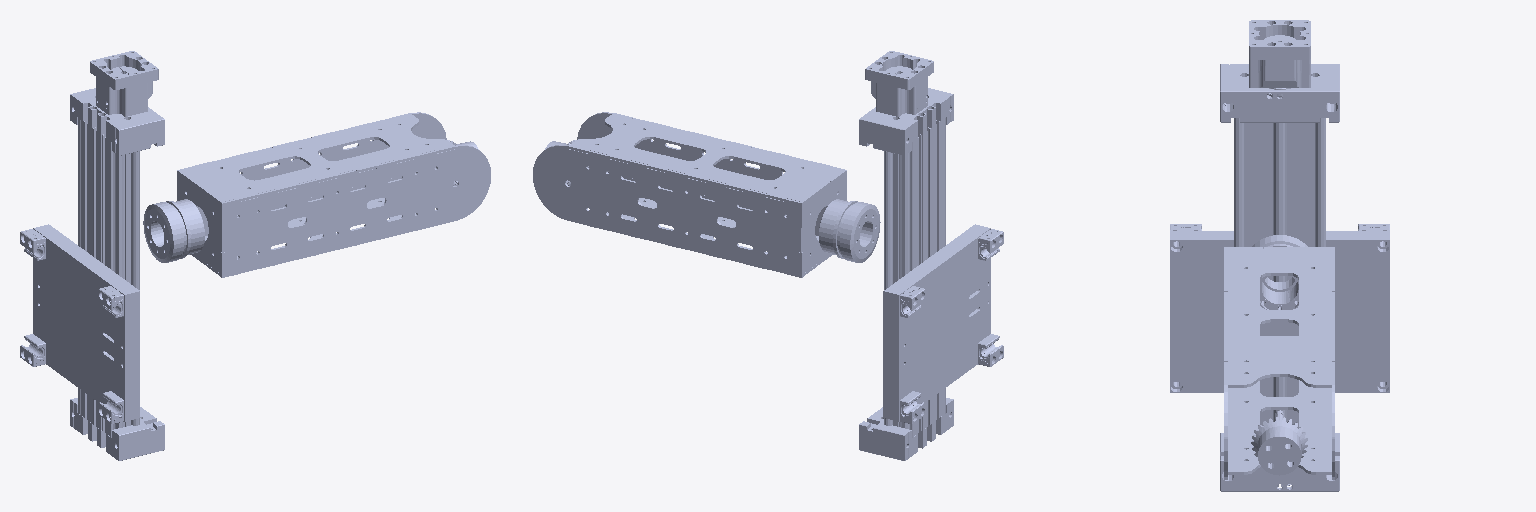
URDF robot description (gantry):
<?xml version="1.0" encoding="utf-8" ?>
<!-- This URDF was automatically created by SolidWorks to URDF Exporter! Originally created by [author] ([email redacted]) 
     Commit Version: 1.6.0-4-g7f85cfe  Build Version: 1.6.7995.38578
     For more information, please see http://wiki.ros.org/sw_urdf_exporter -->
<robot name="gantry">
    <link name="world" />
    <joint name="base_joint" type="fixed">
        <parent link="world" />
        <child link="base_link" />
        <origin rpy="0 0 0" xyz="0.0 0.0 0.17" />
    </joint>
    <link name="base_link">
        <inertial>
            <origin xyz="0.273397746062969 0.0196335701823842 0.290424975718704" rpy="0 0 0" />
            <mass value="0.999102566758599" />
            <inertia ixx="0.000487064031842296" ixy="6.79087549974893E-07" ixz="1.23528453577318E-06" iyy="0.0114768570045371" iyz="-2.04757967514068E-08" izz="0.0112945243793031" />
        </inertial>
        <visual>
            <origin xyz="0 0 0" rpy="0 0 0" />
            <geometry>
                <mesh filename="package://gantry/meshes/base_link.STL" />
            </geometry>
            <material name="">
                <color rgba="0.792156862745098 0.819607843137255 0.933333333333333 1" />
            </material>
        </visual>
        <collision>
            <origin xyz="0 0 0" rpy="0 0 0" />
            <geometry>
                <mesh filename="package://gantry/meshes/base_link.STL" />
            </geometry>
        </collision>
    </link>
    <link name="X_gantry_link">
        <inertial>
            <origin xyz="-0.0698541814264949 0.412438460402414 0.612593275517403" rpy="0 0 0" />
            <mass value="2.7184408688585" />
            <inertia ixx="0.0276076361378352" ixy="-7.8180395929004E-05" ixz="-0.00894904523905823" iyy="0.0300491640122007" iyz="3.21852349643491E-05" izz="0.00955363785619821" />
        </inertial>
        <visual>
            <origin xyz="0 0 0" rpy="0 0 0" />
            <geometry>
                <mesh filename="package://gantry/meshes/X_gantry.STL" />
            </geometry>
            <material name="">
                <color rgba="0.792156862745098 0.819607843137255 0.933333333333333 1" />
            </material>
        </visual>
        <collision>
            <origin xyz="0 0 0" rpy="0 0 0" />
            <geometry>
                <mesh filename="package://gantry/meshes/X_gantry.STL" />
            </geometry>
        </collision>
    </link>
    <joint name="X_gantry" type="prismatic">
        <origin xyz="-0.10352 0.27877 0.55616" rpy="-1.5708 0 -2.7511" />
        <parent link="base_link" />
        <child link="X_gantry_link" />
        <axis xyz="0.92471 0 -0.38068" />
        <limit lower="-0.28" upper="0" effort="0" velocity="0" />
    </joint>
    <link name="Y_gantry_link">
        <inertial>
            <origin xyz="-0.572532898605919 0.330664778033361 0.372011453080152" rpy="0 0 0" />
            <mass value="1.32530018007877" />
            <inertia ixx="0.00687275954854803" ixy="-6.672305225229E-07" ixz="-0.000824318311314372" iyy="0.00261475168874748" iyz="2.05567113830463E-07" izz="0.00521023975719679" />
        </inertial>
        <visual>
            <origin xyz="0 0 0" rpy="0 0 0" />
            <geometry>
                <mesh filename="package://gantry/meshes/Y_gantry.STL" />
            </geometry>
            <material name="">
                <color rgba="0.792156862745098 0.819607843137255 0.933333333333333 1" />
            </material>
        </visual>
        <collision>
            <origin xyz="0 0 0" rpy="0 0 0" />
            <geometry>
                <mesh filename="package://gantry/meshes/Y_gantry.STL" />
            </geometry>
        </collision>
    </link>
    <joint name="Y_gantry" type="prismatic">
        <origin xyz="0.38439 0 0.19344" rpy="0 0 0" />
        <parent link="X_gantry_link" />
        <child link="Y_gantry_link" />
        <axis xyz="0.38068 0 0.92471" />
        <limit lower="0" upper="0.16" effort="0" velocity="0" />
    </joint>
    <link name="Z_gantry_link">
        <inertial>
            <origin xyz="-0.456176964938818 0.104673786807244 0.796550541009001" rpy="0 0 0" />
            <mass value="0.403068685283753" />
            <inertia ixx="0.00106965141676946" ixy="-2.56264719037376E-07" ixz="-0.000122132318438366" iyy="0.000362088816461054" iyz="6.50918959412524E-08" izz="0.000823258357320967" />
        </inertial>
        <visual>
            <origin xyz="0 0 0" rpy="0 0 0" />
            <geometry>
                <mesh filename="package://gantry/meshes/Z_gantry.STL" />
            </geometry>
            <material name="">
                <color rgba="0.792156862745098 0.819607843137255 0.933333333333333 1" />
            </material>
        </visual>
        <collision>
            <origin xyz="0 0 0" rpy="0 0 0" />
            <geometry>
                <mesh filename="package://gantry/meshes/Z_gantry.STL" />
            </geometry>
        </collision>
    </link>
    <joint name="Z_gantry" type="prismatic">
        <origin xyz="-0.16631 0.1855 -0.40398" rpy="0 0 0" />
        <parent link="Y_gantry_link" />
        <child link="Z_gantry_link" />
        <axis xyz="0 1 0" />
        <limit lower="-0.03" upper="0.1" effort="0" velocity="0" />
    </joint>
    <link name="R_arm_link">
        <inertial>
            <origin xyz="0.000172992865614646 -9.99205360449618E-05 -0.158657609193451" rpy="0 0 0" />
            <mass value="0.408324104757072" />
            <inertia ixx="0.00270494526203626" ixy="1.76654813115539E-18" ixz="-5.79230427057177E-09" iyy="0.00273630527789283" iyz="4.93932358664184E-09" izz="0.000324233567972814" />
        </inertial>
        <visual>
            <origin xyz="0 0 0" rpy="0 0 0" />
            <geometry>
                <mesh filename="package://gantry/meshes/R_arm.STL" />
            </geometry>
            <material name="">
                <color rgba="0.792156862745098 0.819607843137255 0.933333333333333 1" />
            </material>
        </visual>
        <collision>
            <origin xyz="0 0 0" rpy="0 0 0" />
            <geometry>
                <mesh filename="package://gantry/meshes/R_arm.STL" />
            </geometry>
        </collision>
    </link>
    <joint name="R_arm" type="continuous">
        <origin xyz="-0.47182 0.10003 0.80314" rpy="3.1416 -1.1803 0" />
        <parent link="Z_gantry_link" />
        <child link="R_arm_link" />
        <axis xyz="0 0 1" />
    </joint>
    <link name="TMS_1_link">
        <inertial>
            <origin xyz="-1.73909482529822E-05 3.88578058618805E-15 -4.22443393599536E-05" rpy="0 0 0" />
            <mass value="0.0116350451938087" />
            <inertia ixx="4.37666591544049E-06" ixy="9.70035806134583E-08" ixz="-1.54880682052679E-06" iyy="4.79724370288521E-06" iyz="-3.99339716317391E-08" izz="1.25206583486366E-06" />
        </inertial>
        <visual>
            <origin xyz="0 0 0" rpy="0 0 0" />
            <geometry>
                <mesh filename="package://gantry/meshes/TMS_1.STL" />
            </geometry>
            <material name="">
                <color rgba="0.792156862745098 0.819607843137255 0.933333333333333 1" />
            </material>
        </visual>
        <collision>
            <origin xyz="0 0 0" rpy="0 0 0" />
            <geometry>
                <mesh filename="package://gantry/meshes/TMS_1.STL" />
            </geometry>
        </collision>
    </link>
    <joint name="TMS_1" type="continuous">
        <origin xyz="0.00034733 -0.00025 -0.34785" rpy="2.266 -0.99955 0.78967" />
        <parent link="R_arm_link" />
        <child link="TMS_1_link" />
        <axis xyz="0.38068 0 0.92471" />
    </joint>
    <link name="TMS_HEAD_link">
        <inertial>
            <origin xyz="-0.0274259091798583 -0.011992160041742 0.011290539162308" rpy="0 0 0" />
            <mass value="0.0428411645602252" />
            <inertia ixx="9.69581928427433E-06" ixy="-8.55825624289951E-07" ixz="8.05759898039751E-07" iyy="1.12788800479917E-05" iyz="3.52375864231027E-07" izz="1.13213908836374E-05" />
        </inertial>
        <visual>
            <origin xyz="0 0 0" rpy="0 0 0" />
            <geometry>
                <mesh filename="package://gantry/meshes/TMS_HEAD.STL" />
            </geometry>
            <material name="">
                <color rgba="0.792156862745098 0.819607843137255 0.933333333333333 1" />
            </material>
        </visual>
        <collision>
            <origin xyz="0 0 0" rpy="0 0 0" />
            <geometry>
                <mesh filename="package://gantry/meshes/TMS_HEAD.STL" />
            </geometry>
        </collision>
    </link>
    <joint name="TMS_HEAD" type="continuous">
        <origin xyz="0 0 0" rpy="1.3245 0.71549 -0.069725" />
        <parent link="TMS_1_link" />
        <child link="TMS_HEAD_link" />
        <axis xyz="0.85728 0.37485 -0.35292" />
    </joint>
    <transmission name="X_gantry_trans">
        <type>transmission_interface/SimpleTransmission</type>
        <joint name="X_gantry">
            <hardwareInterface>hardware_interface/PositionJointInterface</hardwareInterface>
        </joint>
        <actuator name="X_gantry_motor">
            <hardwareInterface>hardware_interface/PositionJointInterface</hardwareInterface>
            <mechanicalReduction>1</mechanicalReduction>
        </actuator>
    </transmission>
    <transmission name="Y_gantry_trans">
        <type>transmission_interface/SimpleTransmission</type>
        <joint name="Y_gantry">
            <hardwareInterface>hardware_interface/PositionJointInterface</hardwareInterface>
        </joint>
        <actuator name="Y_gantry_motor">
            <hardwareInterface>hardware_interface/PositionJointInterface</hardwareInterface>
            <mechanicalReduction>1</mechanicalReduction>
        </actuator>
    </transmission>
    <transmission name="Z_gantry_trans">
        <type>transmission_interface/SimpleTransmission</type>
        <joint name="Z_gantry">
            <hardwareInterface>hardware_interface/PositionJointInterface</hardwareInterface>
        </joint>
        <actuator name="Z_gantry_motor">
            <hardwareInterface>hardware_interface/PositionJointInterface</hardwareInterface>
            <mechanicalReduction>1</mechanicalReduction>
        </actuator>
    </transmission>
    <transmission name="R_arm_trans">
        <type>transmission_interface/SimpleTransmission</type>
        <joint name="R_arm">
            <hardwareInterface>hardware_interface/PositionJointInterface</hardwareInterface>
        </joint>
        <actuator name="R_arm_motor">
            <hardwareInterface>hardware_interface/PositionJointInterface</hardwareInterface>
            <mechanicalReduction>1</mechanicalReduction>
        </actuator>
    </transmission>
    <transmission name="TMS_1_trans">
        <type>transmission_interface/SimpleTransmission</type>
        <joint name="TMS_1">
            <hardwareInterface>hardware_interface/PositionJointInterface</hardwareInterface>
        </joint>
        <actuator name="TMS_1_motor">
            <hardwareInterface>hardware_interface/PositionJointInterface</hardwareInterface>
            <mechanicalReduction>1</mechanicalReduction>
        </actuator>
    </transmission>
    <transmission name="TMS_HEAD_trans">
        <type>transmission_interface/SimpleTransmission</type>
        <joint name="TMS_HEAD">
            <hardwareInterface>hardware_interface/PositionJointInterface</hardwareInterface>
        </joint>
        <actuator name="TMS_HEAD_motor">
            <hardwareInterface>hardware_interface/PositionJointInterface</hardwareInterface>
            <mechanicalReduction>1</mechanicalReduction>
        </actuator>
    </transmission>
    <gazebo>
        <plugin name="gazebo_ros_control">
            <robotNamespace>/</robotNamespace>
        </plugin>
    </gazebo>
</robot>

--- What the picture shows (computed from the rendered views, not written in the file) ---
Views: 3 orthographic renders of the robot side by side, from view 1: azimuth 30°, elevation 25°; view 2: azimuth 150°, elevation 25°; view 3: azimuth 270°, elevation 25°.
Robot: gantry — 8 links, 7 joints (3 continuous, 3 prismatic, 1 fixed); root link world; default pose: all joints at 0.
Visible links, largest first — view 1: R_arm_link, Y_gantry_link; view 2: R_arm_link, Y_gantry_link; view 3: Y_gantry_link, R_arm_link, TMS_HEAD_link.
Boxes of the visible links, bbox=[...] form: R_arm_link: bbox=[143, 112, 490, 277]; Y_gantry_link: bbox=[20, 51, 164, 460]; R_arm_link: bbox=[533, 112, 880, 277]; Y_gantry_link: bbox=[859, 51, 1003, 460]; Y_gantry_link: bbox=[1170, 20, 1389, 491]; R_arm_link: bbox=[1224, 235, 1334, 479]; TMS_HEAD_link: bbox=[1251, 410, 1307, 475].
Size in the robot's own frame: 0.5154 by 0.2 by 0.448 metres.
3 mesh visuals loaded from 7 distinct referenced files (3 binary STL); not drawn: 4 (reference not matched to a file when rendering).